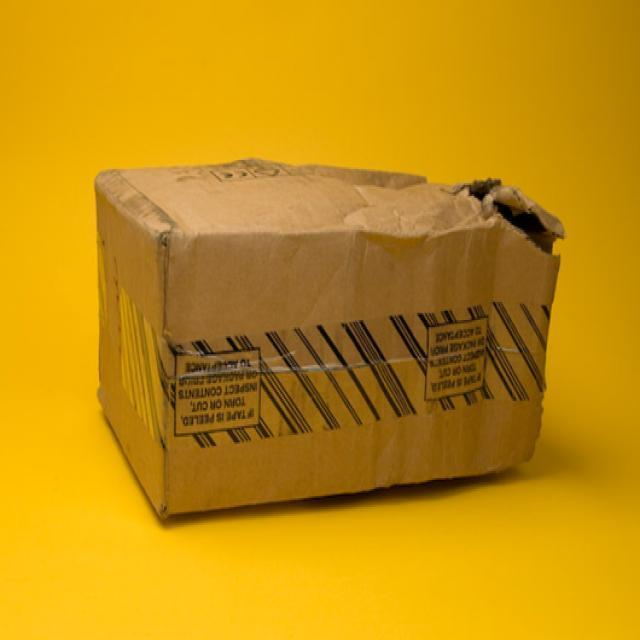damaged: (466, 172, 563, 290)
